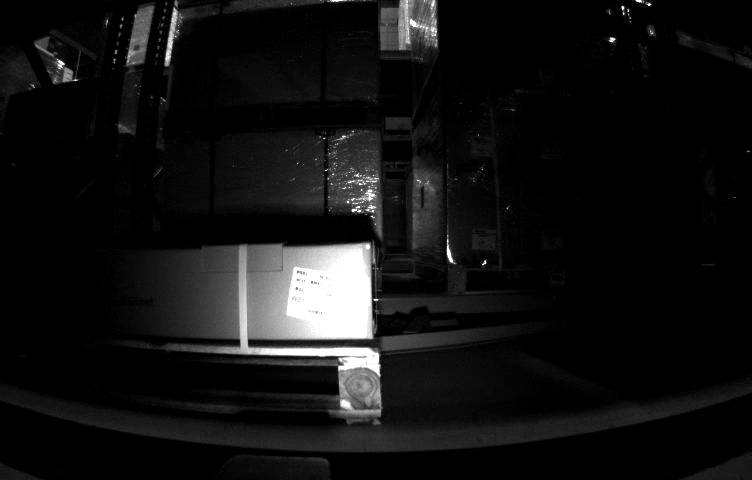True Barcode: (285, 265, 350, 326)
